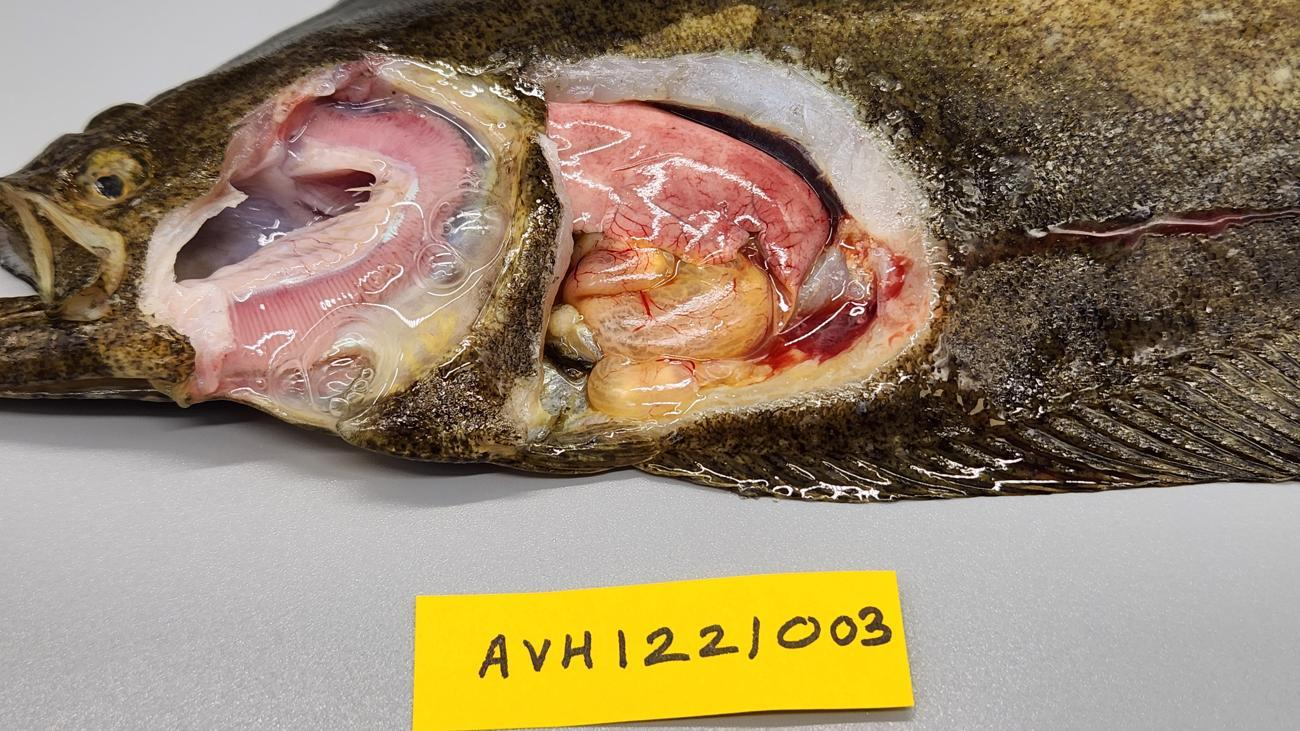VIGIP: (229, 105, 473, 363)
